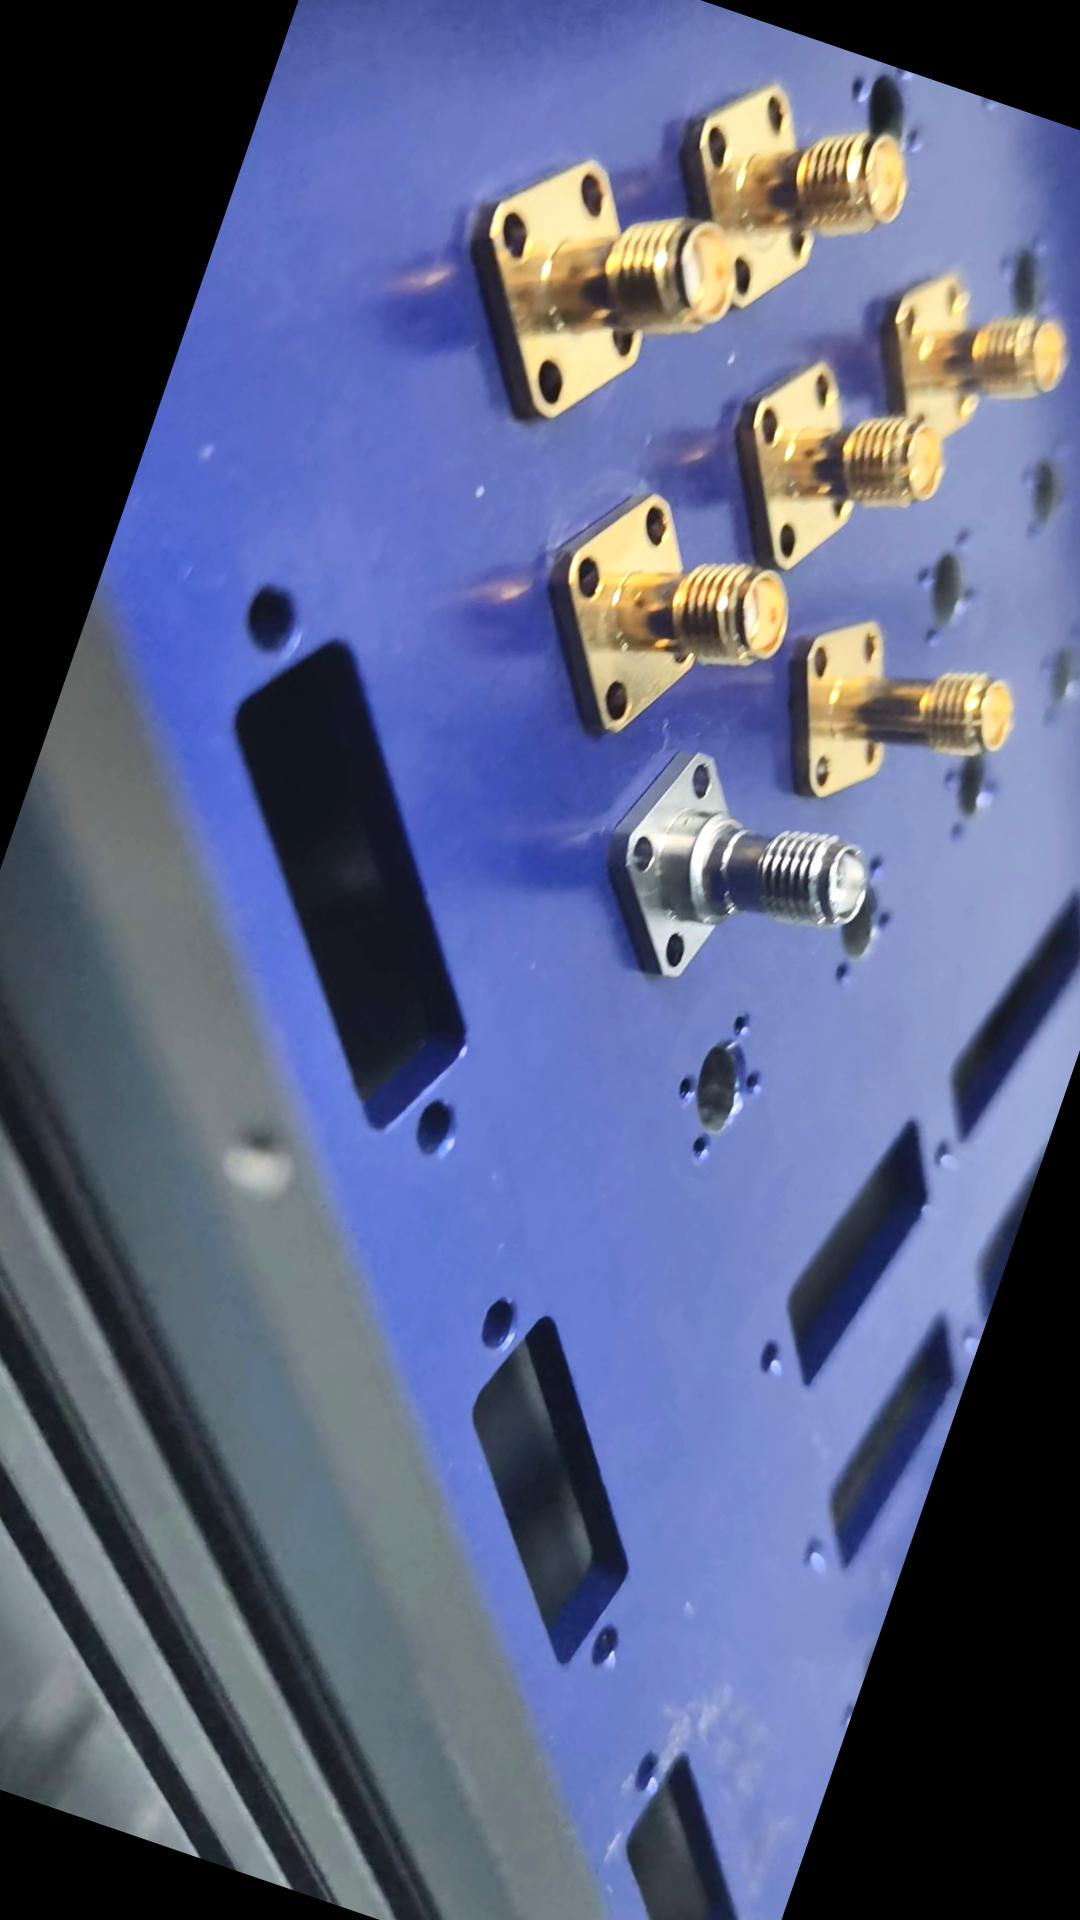SMA: (435, 133, 764, 468), (512, 448, 823, 779), (576, 717, 899, 1033), (702, 323, 978, 620), (756, 591, 1039, 858)
